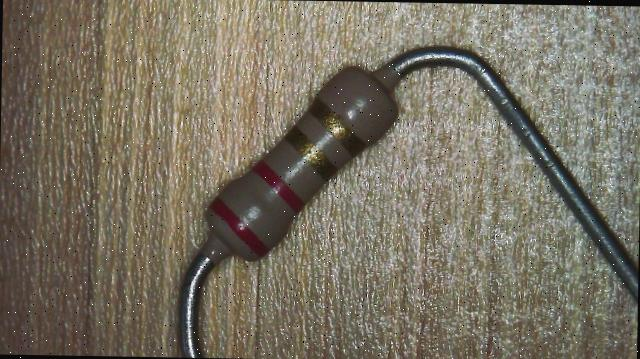gold: (309, 97, 365, 154), (284, 132, 334, 179)
red: (210, 197, 269, 255), (253, 159, 305, 212)
resistor: (176, 34, 416, 291)
